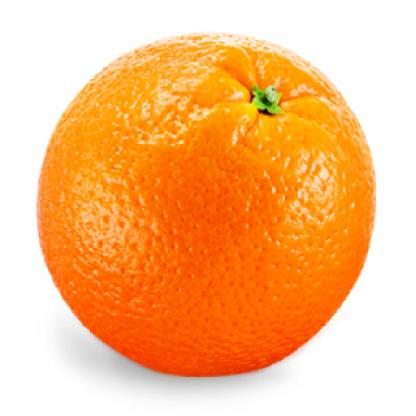orange: (28, 35, 384, 382)
